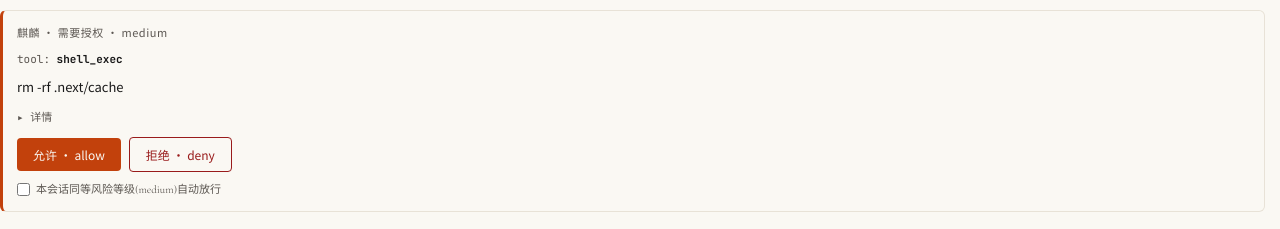
InlineApproval — Iter F 交互 primitives › allow posts user_decision with 'allow'
Click the button with test id "inline-approval-allow".
click(69, 154)  # box [17, 138, 121, 171]
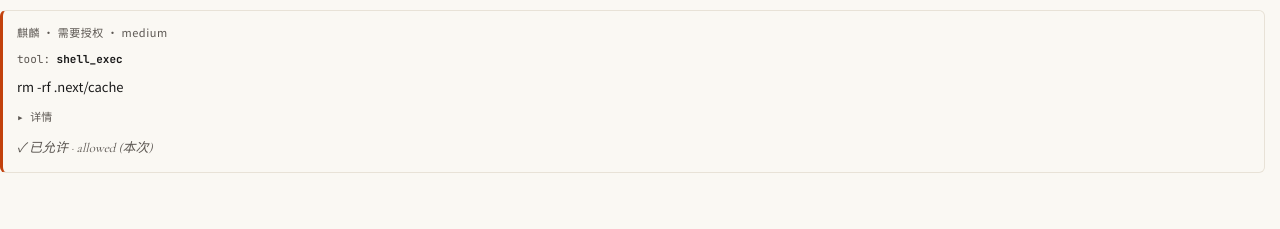
Expected: the text with test id "inline-approval-decided" shows "已允许", [17, 140, 153, 156]
